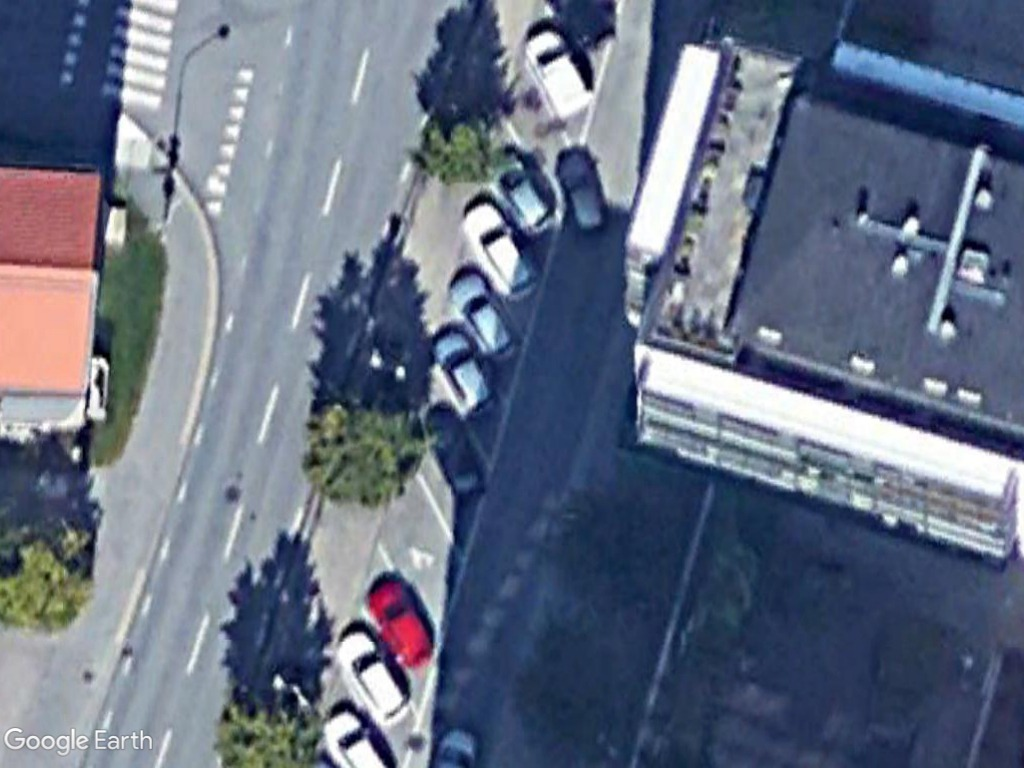car: (331, 623, 418, 732), (460, 193, 543, 302), (441, 265, 526, 365), (362, 577, 438, 672), (425, 329, 500, 424), (490, 146, 562, 239), (549, 146, 610, 239)
van: (520, 24, 606, 130)
